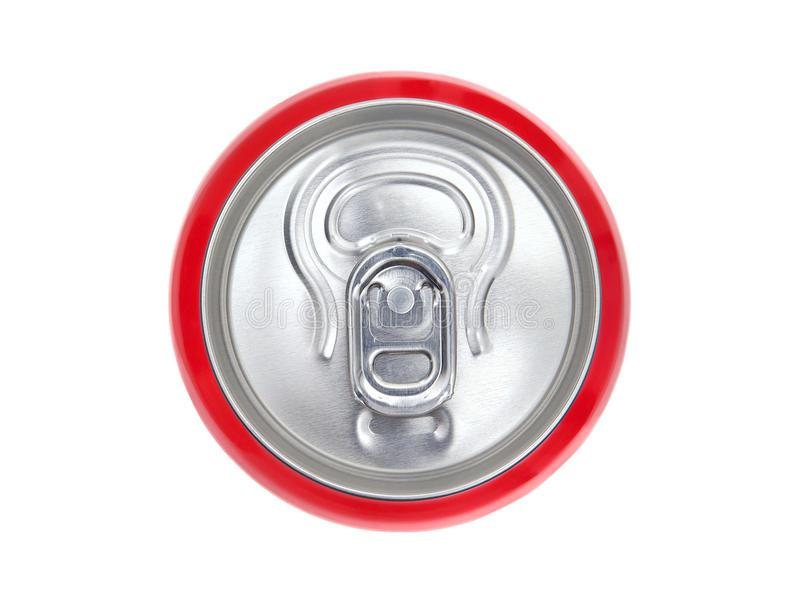can: (156, 65, 650, 547)
